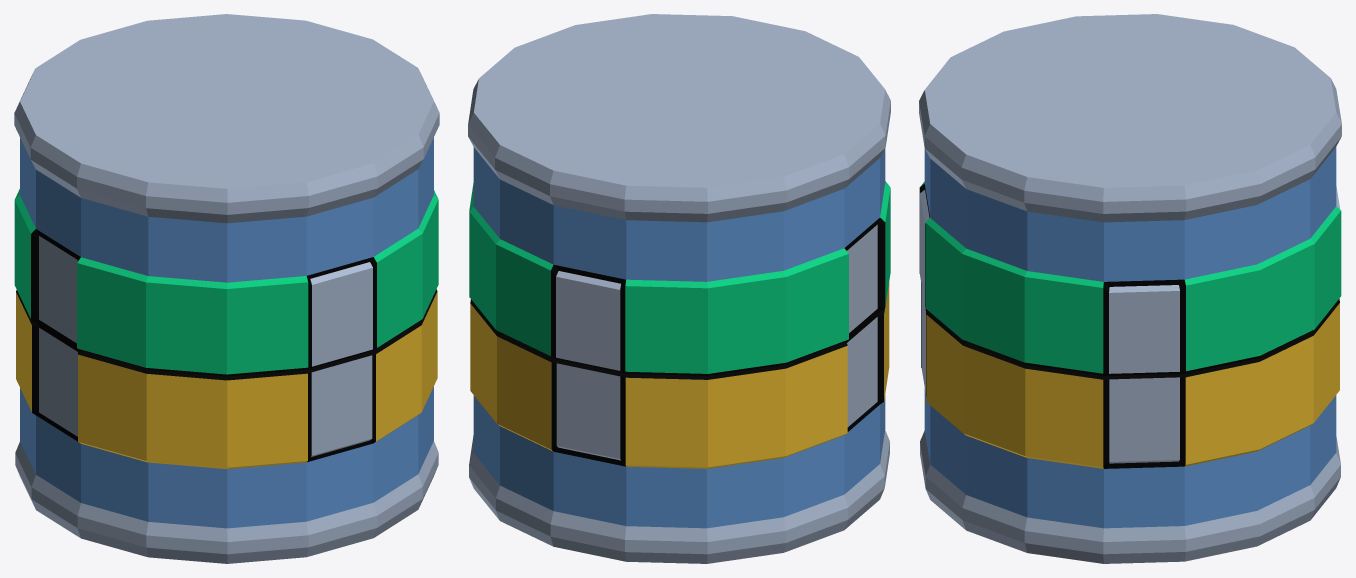
Rendered from Cilindro_MMX.fbx.
The picture shows the model from 3 angles, left to right: view 1: azimuth 30°, elevation 25°; view 2: azimuth 150°, elevation 25°; view 3: azimuth 270°, elevation 25°; orthographic projection.
Parts seen in each view (by area): view 1: Cylinder; view 2: Cylinder; view 3: Cylinder.
Part boxes in pixels (x1=…): Cylinder: x1=14, y1=14, x2=439, y2=563; Cylinder: x1=468, y1=14, x2=890, y2=563; Cylinder: x1=919, y1=14, x2=1341, y2=563.
Size of the model in its own units: 204 by 200 by 204.
